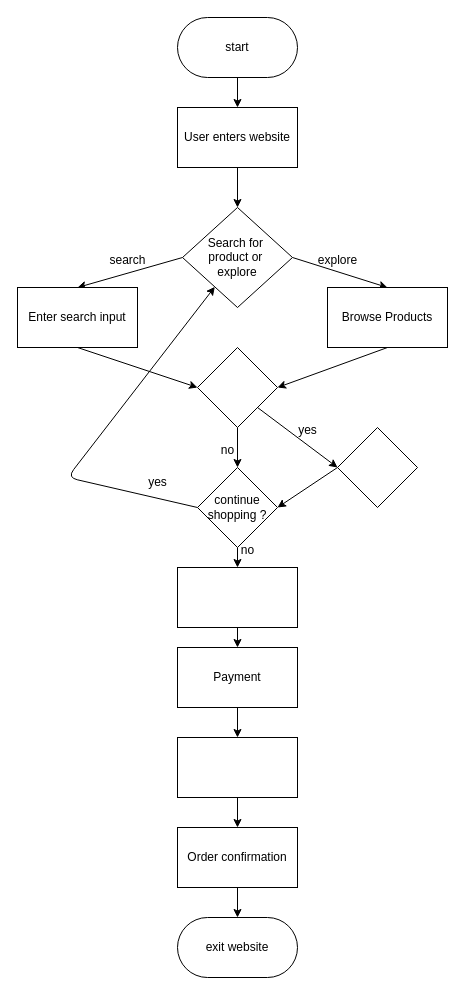
Some shapes in this 465 by 995 pixel diagram are drawn without their labels. The shapes that lost their labels are listed below. From the top down, each one's centre as x and y in pixels, then its label:
the point at 237,387: View Product
the point at 377,467: add to cart ?
the point at 237,597: View Cart
the point at 237,767: Enter Payment info
